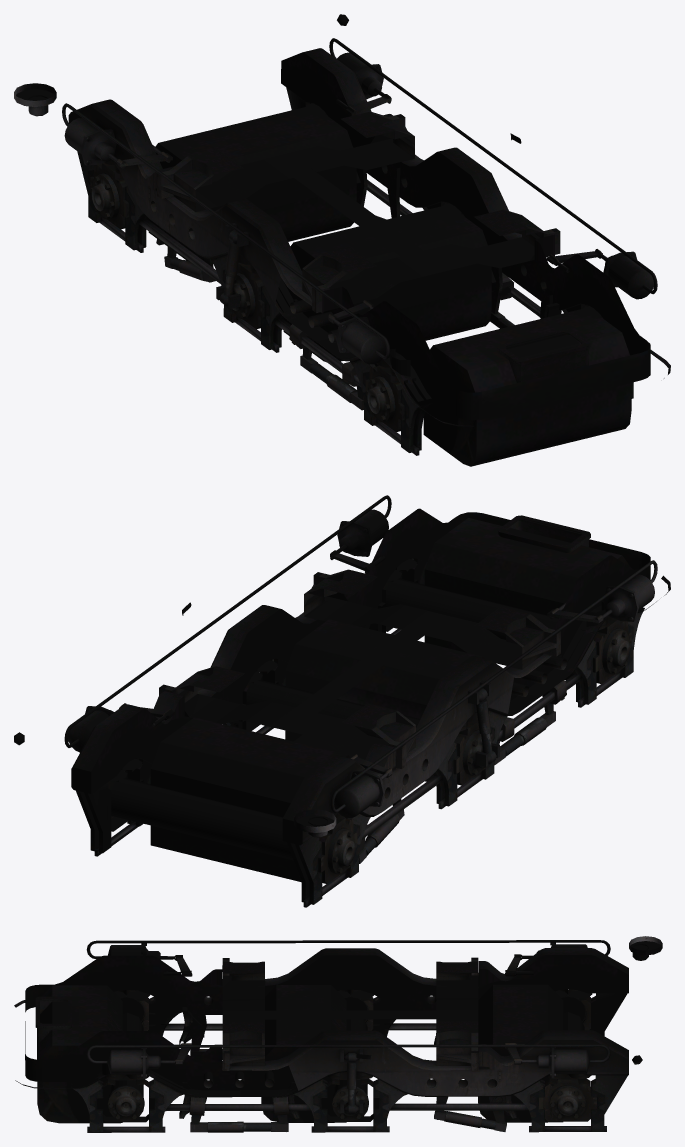
Rendered from truck.glb.
The picture shows the model from 3 angles, top to bottom: view 1: azimuth 30°, elevation 25°; view 2: azimuth 150°, elevation 25°; view 3: azimuth 270°, elevation 25°; orthographic projection. The views are drawn at different scales.
Parts seen in each view (by area): view 1: Truck; view 2: Truck; view 3: Truck.
Boxes of the visible parts, box(x1,y1,x2,y2) form: Truck: box(14, 14, 670, 466); Truck: box(14, 495, 670, 907); Truck: box(14, 936, 662, 1132).
Bounding box in the file's own units: 2.85 × 1.12 × 6.22.
2 materials, 2 textured.
